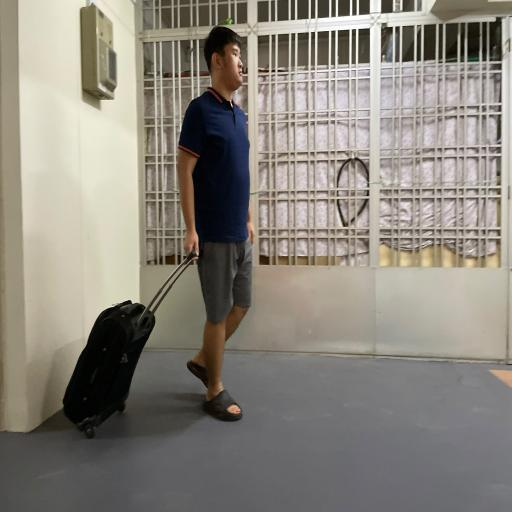person_right: (66, 22, 262, 444)
